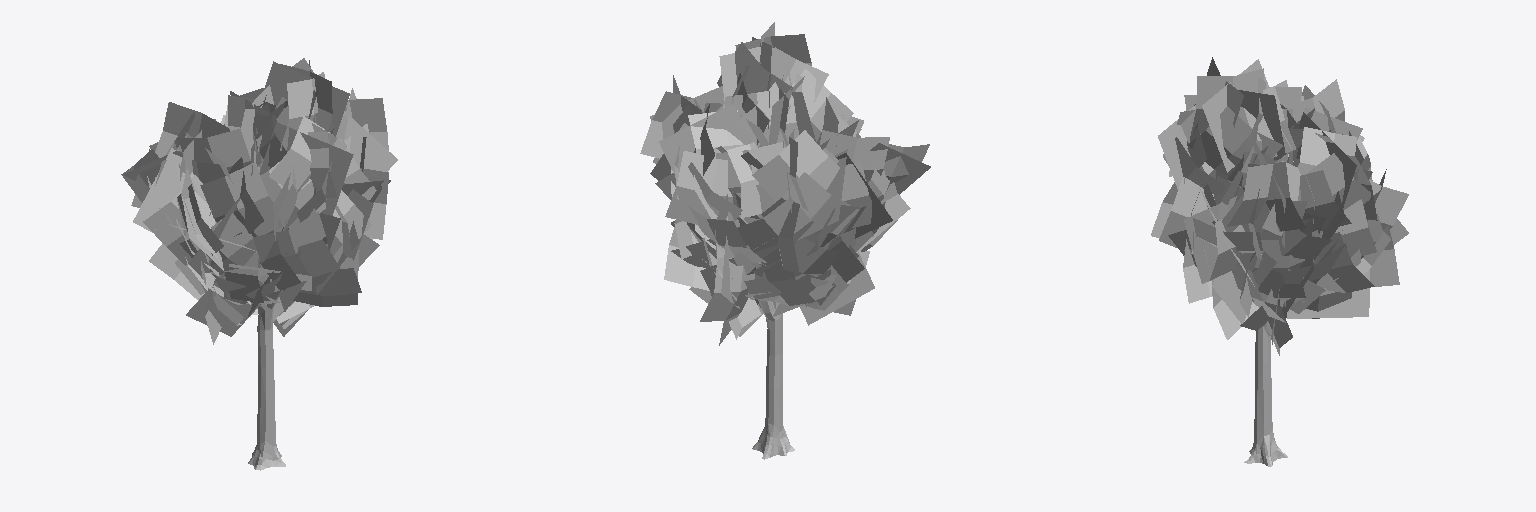
File: tree_02_a.obj
The picture shows the model from 3 angles: view 1: azimuth 30°, elevation 25°; view 2: azimuth 150°, elevation 25°; view 3: azimuth 270°, elevation 25°; orthographic projection.
Visible parts, largest first — view 1: tree_02_a.obj; view 2: tree_02_a.obj; view 3: tree_02_a.obj.
Boxes of the visible parts, x1=… form: tree_02_a.obj: x1=121, y1=58, x2=397, y2=470; tree_02_a.obj: x1=640, y1=22, x2=930, y2=459; tree_02_a.obj: x1=1151, y1=57, x2=1408, y2=466.
Size of the model in its own units: 226 by 348 by 204.